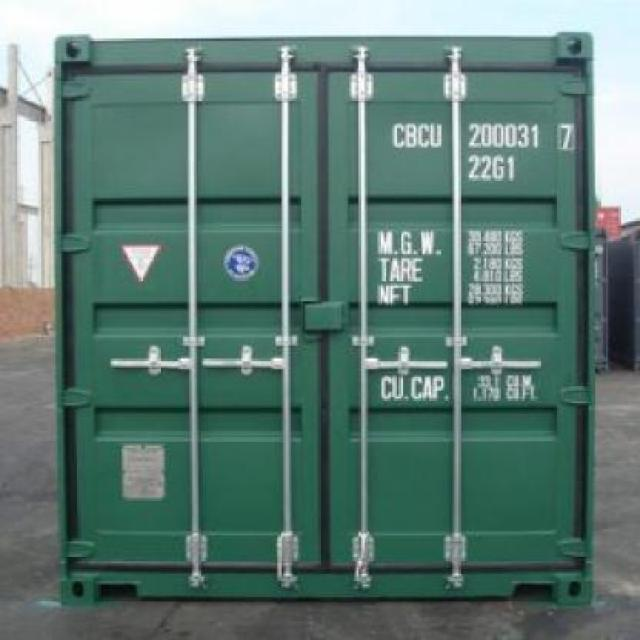ISO: (469, 155, 515, 183)
container_number: (399, 122, 566, 149)
